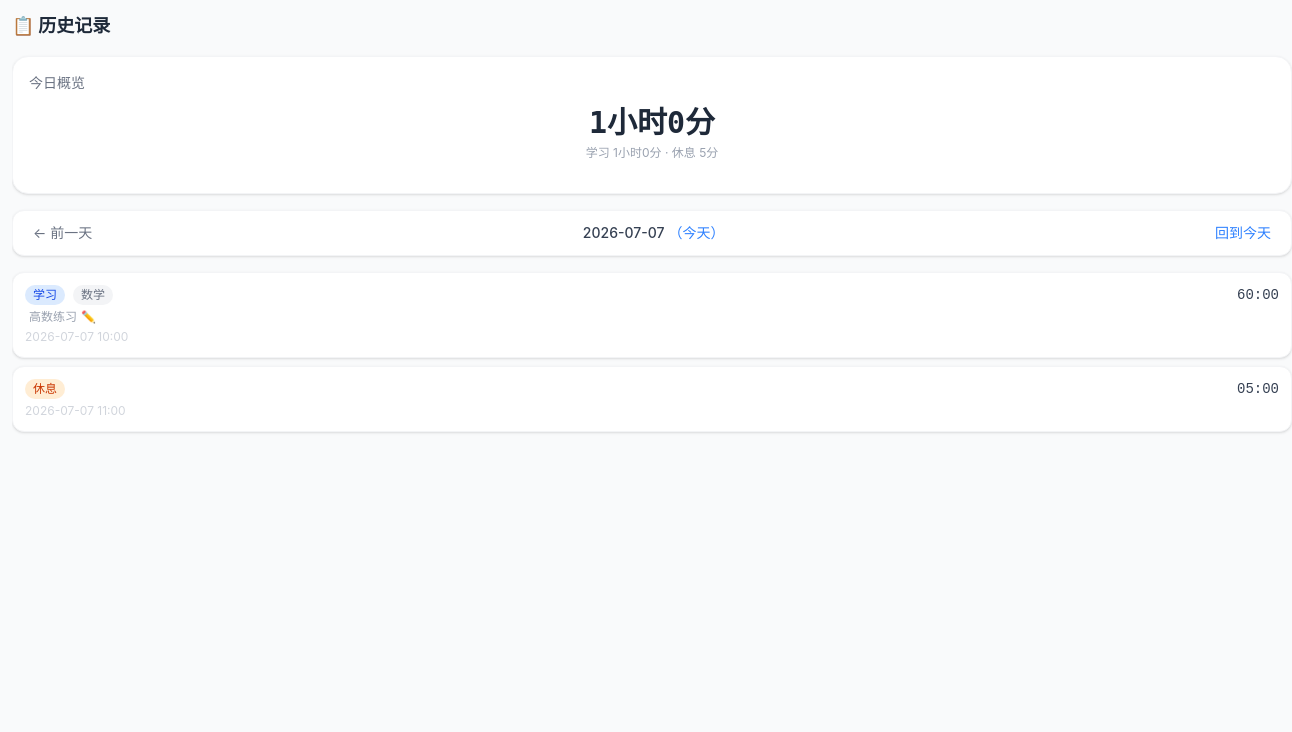
Scenario: HistoryPage › 保存成功后原地更新备注并收起编辑态
Expected: the button "高数练习" is shown, [29,309,77,325]
Click the button titled "编辑备注" at (88, 317), box [81,309,96,325]
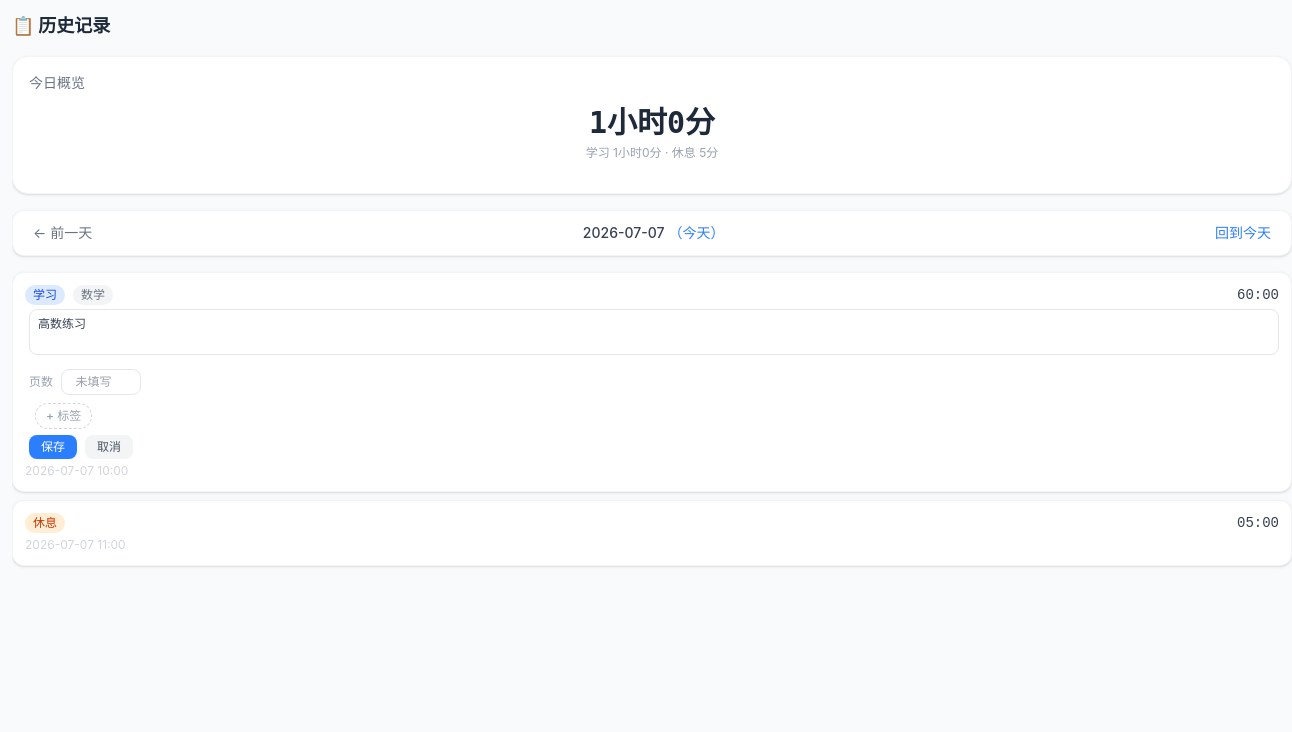
Replace the text in the text box with placeholder "记录一下当前的学习内容..." with "高数第三章 反常积分" at (654, 332), box [29,309,1279,355]
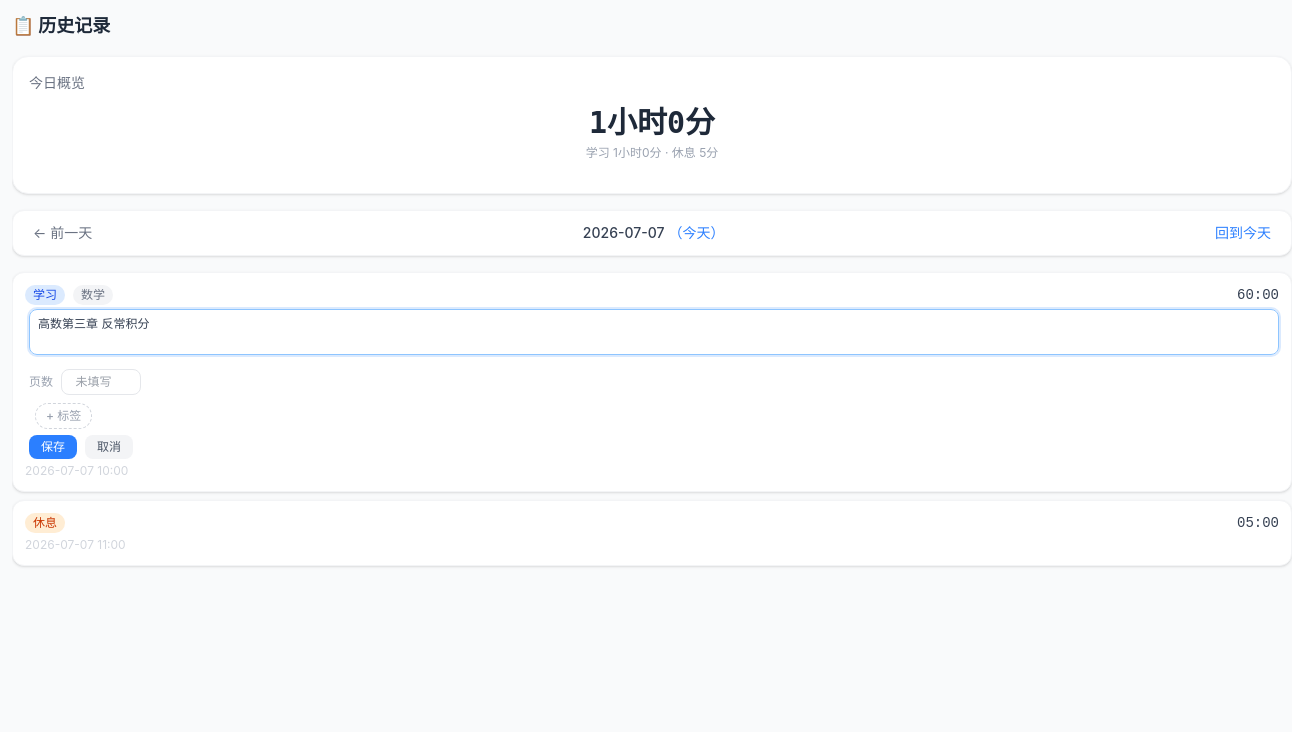
Click the button "保存" at (53, 447), box [29,435,77,459]
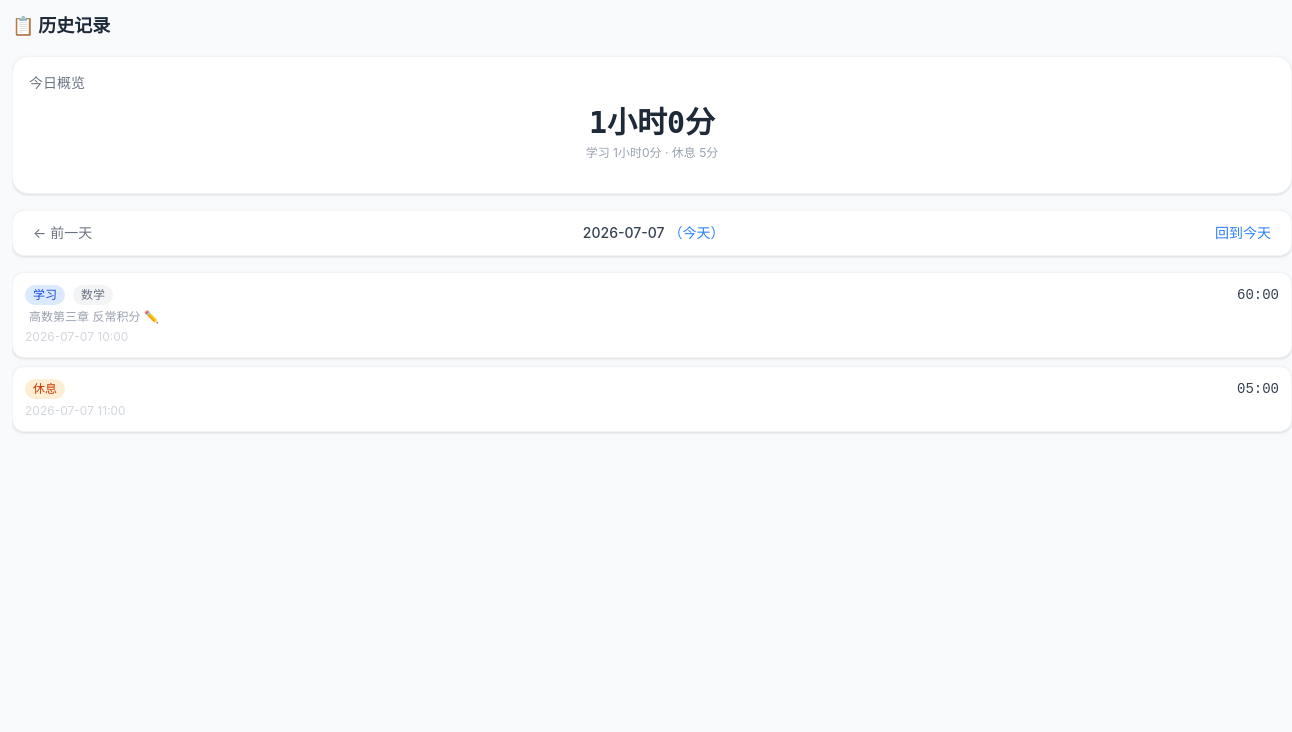
Expected: the button "高数第三章 反常积分" is shown, [29,309,140,325]
Expected: the text box with placeholder "记录一下当前的学习内容..." is gone
